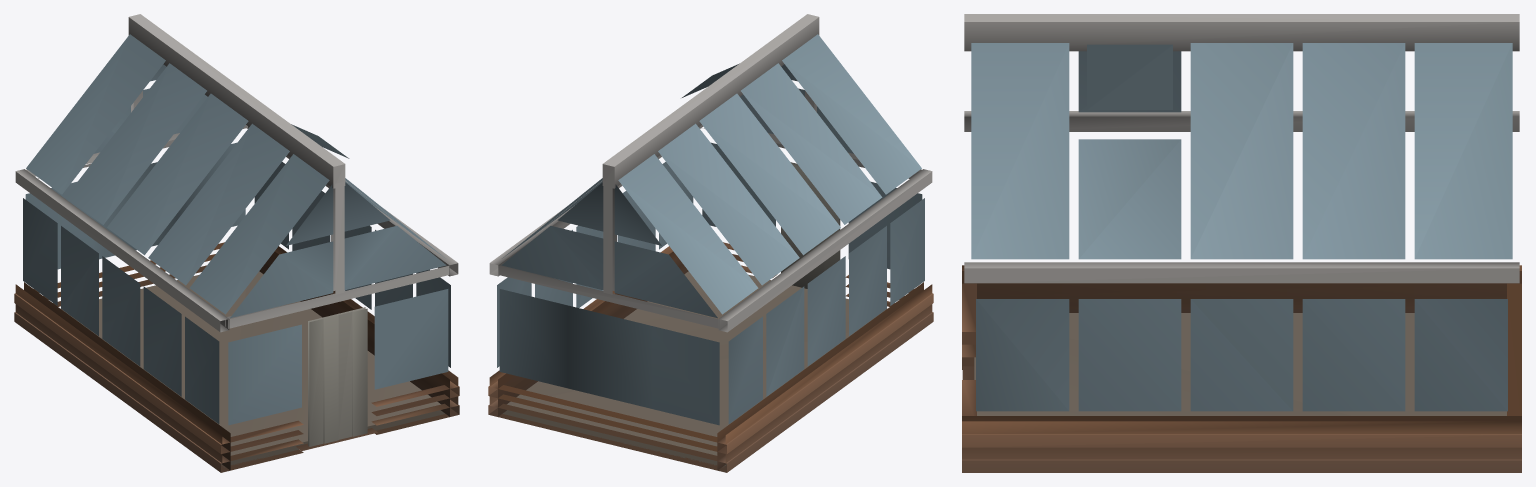
The model's file is glass.lod.glb.
3 renders of one model, left to right at view 1: azimuth 30°, elevation 25°; view 2: azimuth 150°, elevation 25°; view 3: azimuth 270°, elevation 25°, orthographic. The views are drawn at different scales.
Visible parts, largest first — view 1: glass; view 2: glass; view 3: glass.
Part boxes in pixels (x1,y1,x2,y2): glass: (14, 14, 459, 472); glass: (488, 14, 933, 472); glass: (962, 14, 1521, 472).
Bounding box in the file's own units: 6.4 × 7.12 × 9.6.
